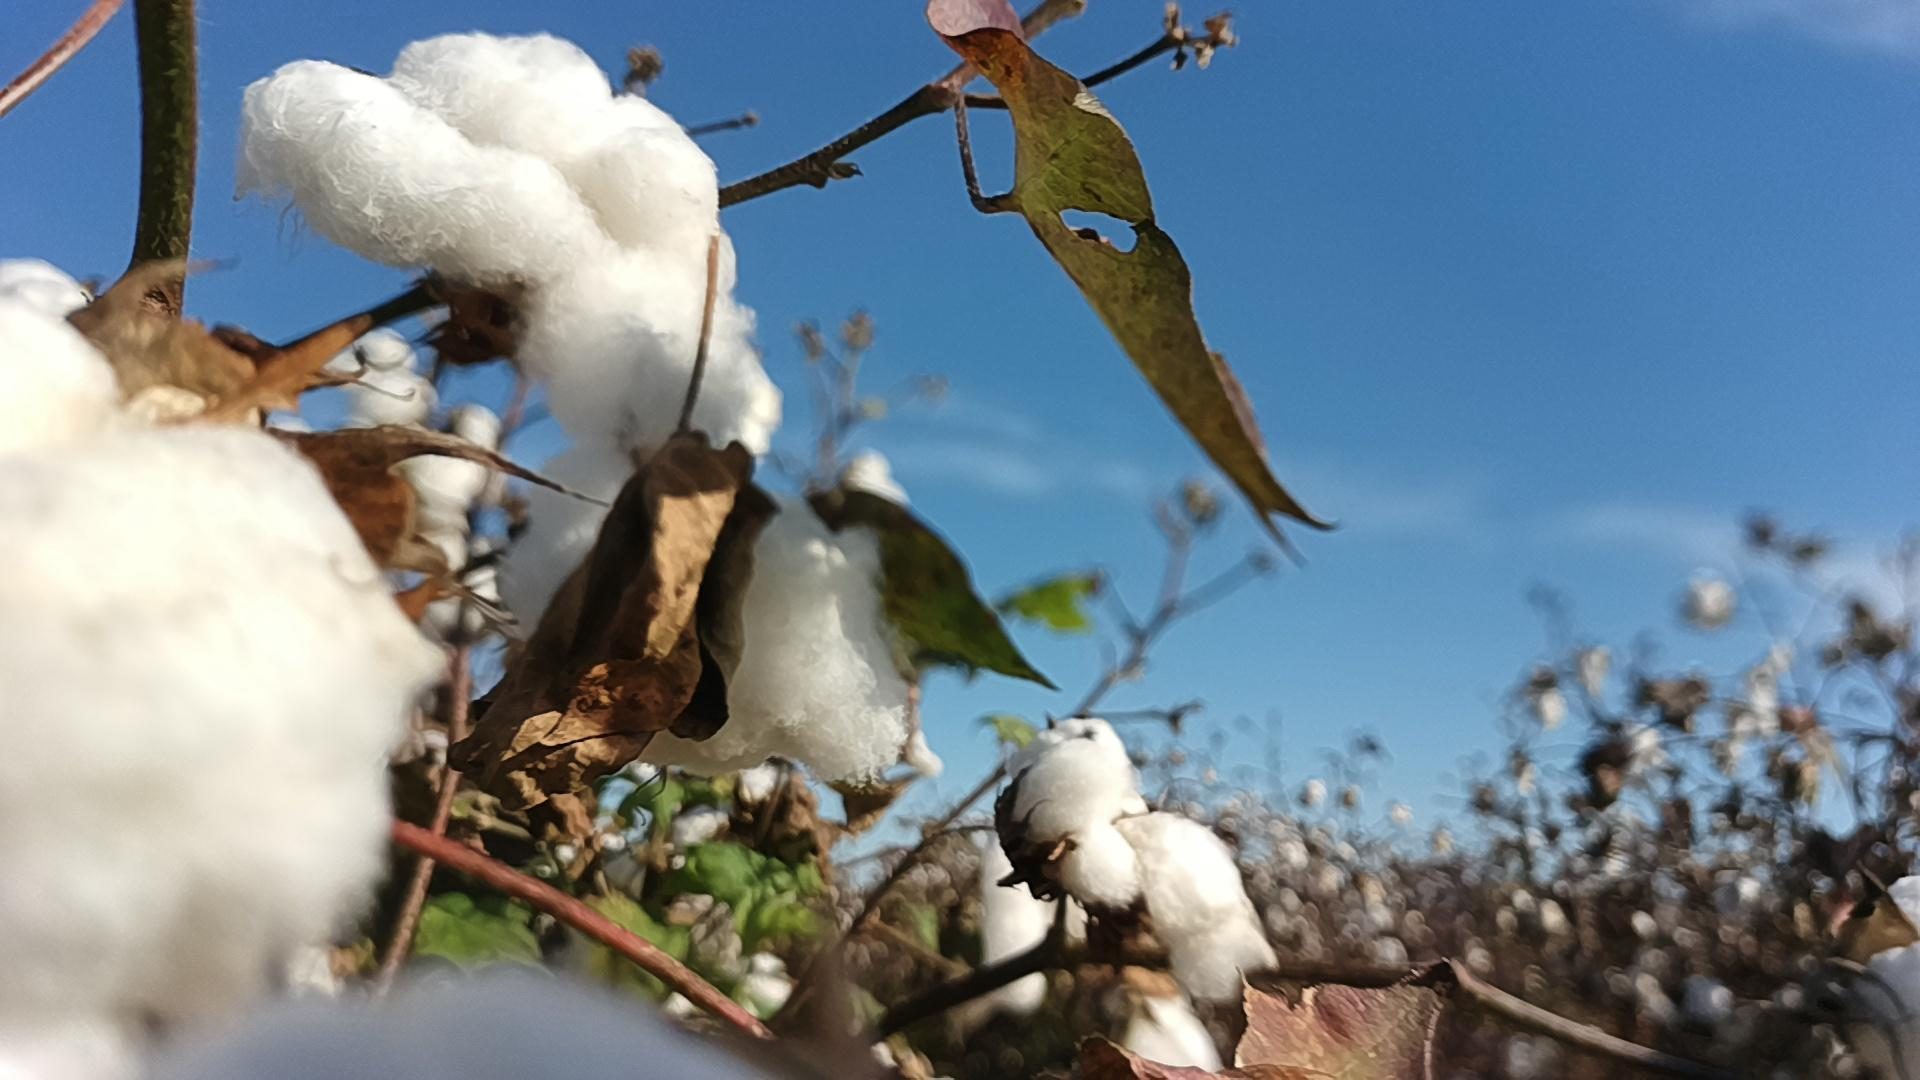cotton_ready: (0, 256, 443, 1080), (237, 37, 778, 471), (496, 458, 943, 785), (998, 716, 1275, 998), (140, 965, 778, 1080), (340, 405, 500, 574), (988, 825, 1089, 1010), (1108, 964, 1224, 1080), (330, 327, 438, 419), (1873, 876, 1920, 1029)
